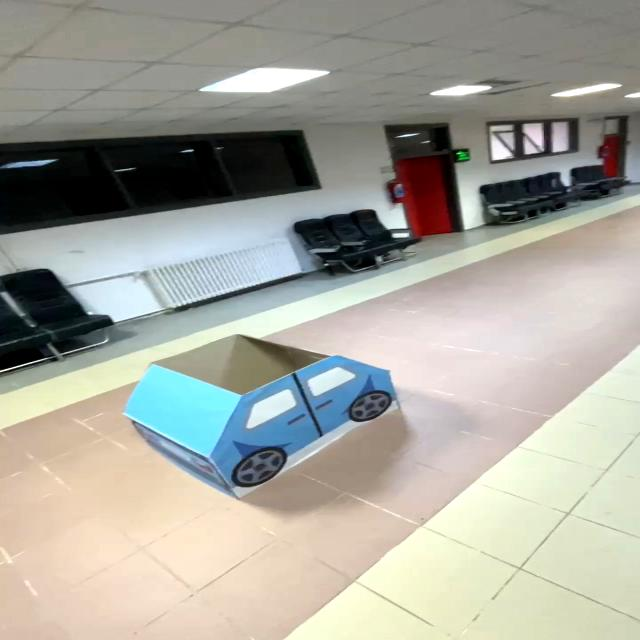blue_car: (105, 318, 437, 506)
